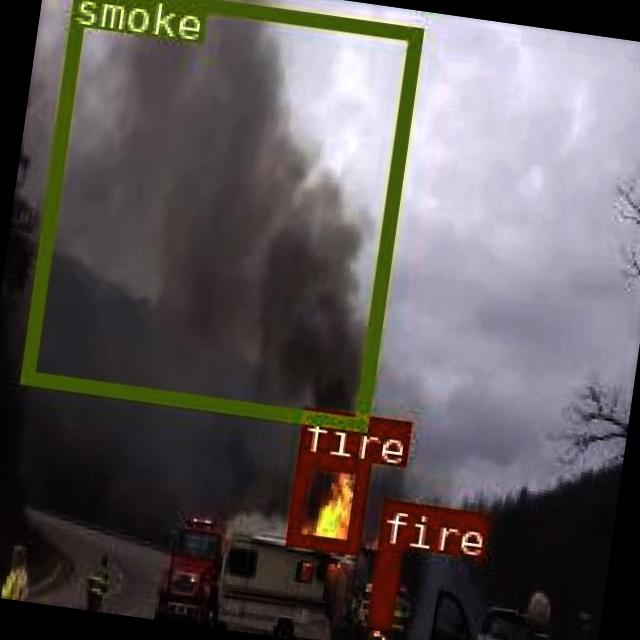fire: (284, 452, 368, 550), (364, 542, 400, 624)
smoke: (18, 0, 420, 430)
